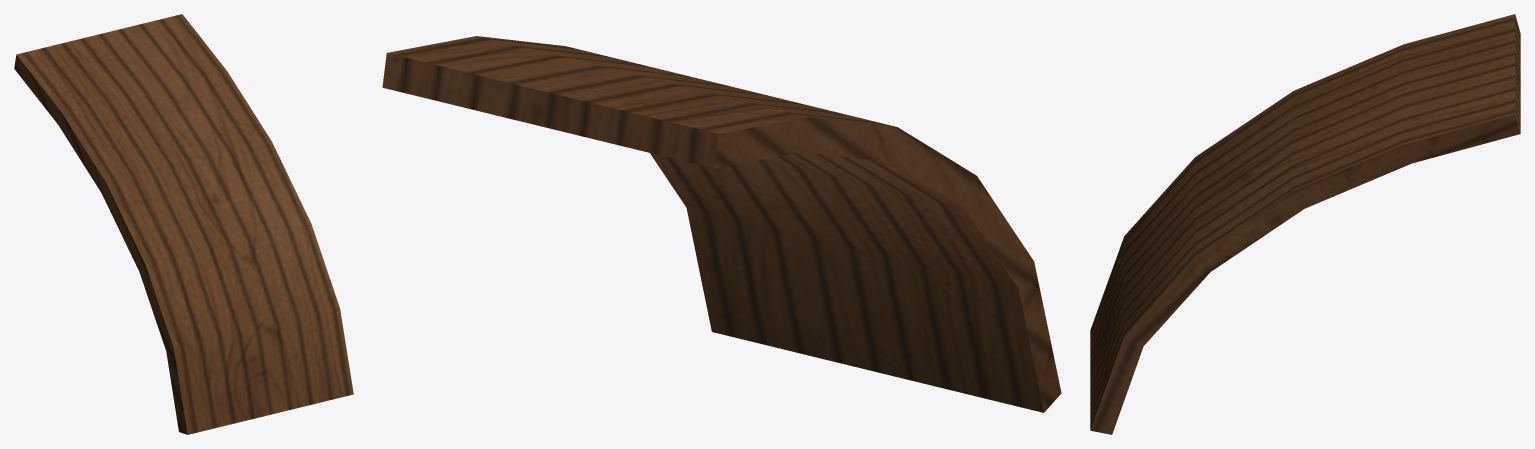
File: Roof.fbx
The picture shows the model from 3 angles, left to right: view 1: azimuth 30°, elevation 25°; view 2: azimuth 150°, elevation 25°; view 3: azimuth 270°, elevation 25°; orthographic projection. The views are drawn at different scales.
Visible parts, largest first — view 1: M_Roof_MedievalDiningRoom_FinalScene2:blinn7_0; view 2: M_Roof_MedievalDiningRoom_FinalScene2:blinn7_0; view 3: M_Roof_MedievalDiningRoom_FinalScene2:blinn7_0.
Boxes of the visible parts, x1,y1,x2,y2 form: M_Roof_MedievalDiningRoom_FinalScene2:blinn7_0: (14, 14, 353, 434); M_Roof_MedievalDiningRoom_FinalScene2:blinn7_0: (382, 36, 1061, 412); M_Roof_MedievalDiningRoom_FinalScene2:blinn7_0: (1090, 14, 1520, 434).
Bounding box in the file's own units: 74.41 × 111 × 135.
1 material, 1 textured.
